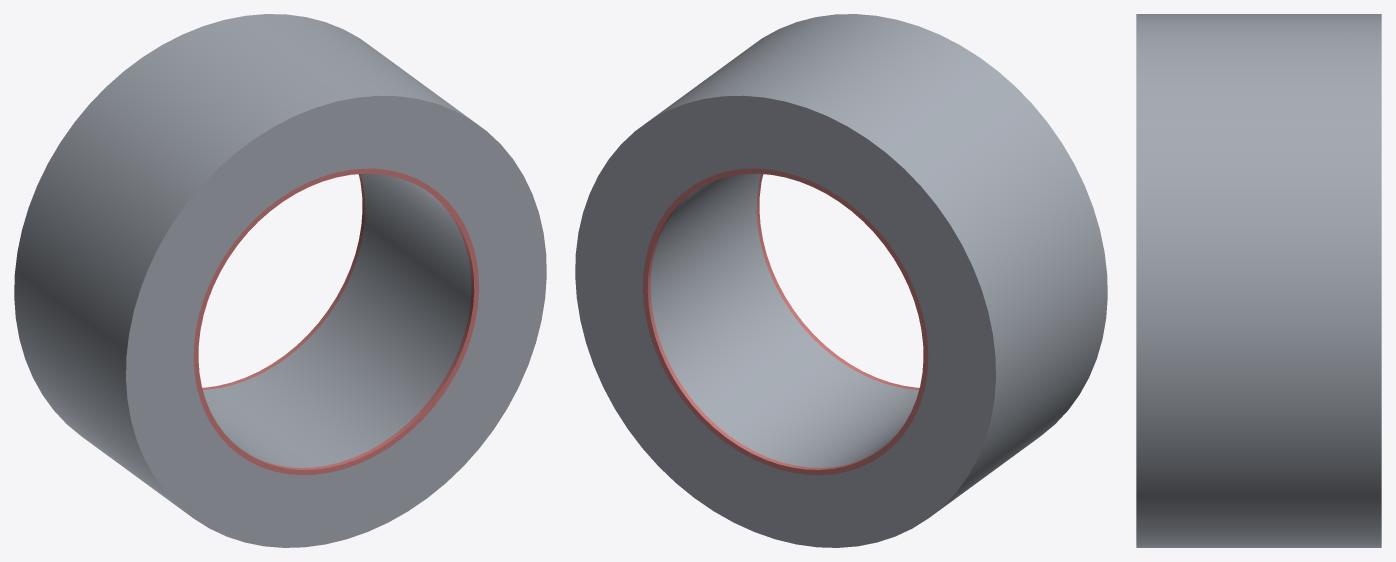
Rendered from step_03.glb.
The picture shows the model from 3 angles, left to right: view 1: azimuth 30°, elevation 25°; view 2: azimuth 150°, elevation 25°; view 3: azimuth 270°, elevation 25°; orthographic projection. The views are drawn at different scales.
Parts seen in each view (by area): view 1: part__Housing, removed__Housing; view 2: part__Housing, removed__Housing; view 3: part__Housing.
Boxes of the visible parts, <box> form: part__Housing: <box>14,14,546,547</box>; removed__Housing: <box>193,168,478,475</box>; part__Housing: <box>575,14,1107,547</box>; removed__Housing: <box>643,168,928,475</box>; part__Housing: <box>1136,14,1381,547</box>.
Bounding box in the file's own units: 86.97 × 86.95 × 40.
